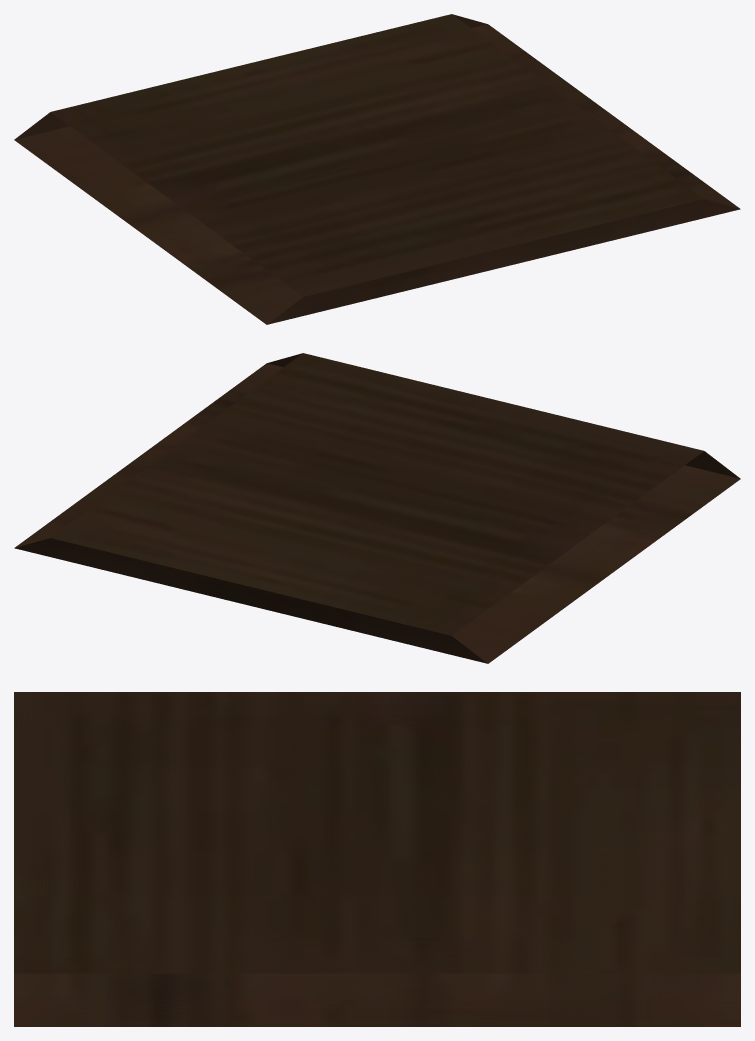
The model's file is link_8__other_leaf-16.glb.
3 views of the same model, one above another, from view 1: azimuth 30°, elevation 25°; view 2: azimuth 150°, elevation 25°; view 3: azimuth 270°, elevation 25° (orthographic). The views are drawn at different scales.
Parts seen in each view (by area): view 1: world; view 2: world; view 3: world.
Boxes of the visible parts, box(x1,y1,x2,y2) form: world: box(14, 14, 740, 324); world: box(14, 353, 740, 663); world: box(14, 692, 740, 1026).
Size of the model in its own units: 0.1365 by 0.00525 by 0.126.
Materials: 1 (1 with a texture image).
